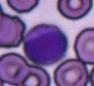L: (23, 24, 68, 65)
